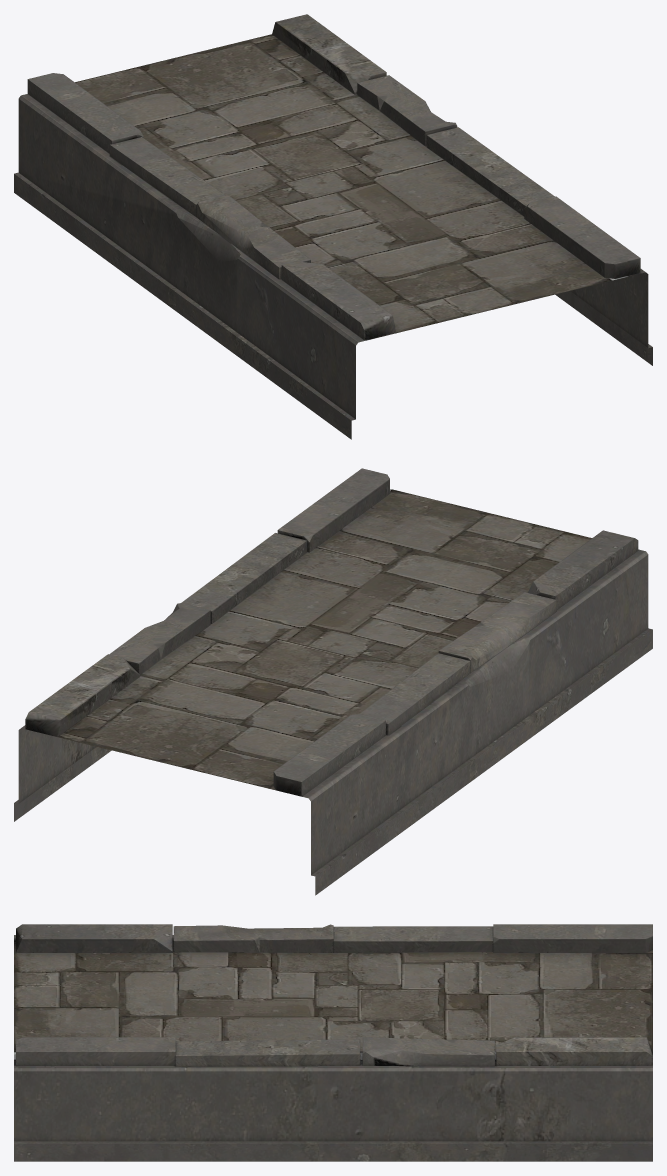
The model's file is stone_bridge.fbx.
The picture shows the model from 3 angles, top to bottom: view 1: azimuth 30°, elevation 25°; view 2: azimuth 150°, elevation 25°; view 3: azimuth 270°, elevation 25°; orthographic projection. The views are drawn at different scales.
Parts seen in each view (by area): view 1: renderMesh0; view 2: renderMesh0; view 3: renderMesh0.
Boxes of the visible parts, x1=… form: renderMesh0: x1=14, y1=14, x2=652, y2=439; renderMesh0: x1=14, y1=468, x2=652, y2=895; renderMesh0: x1=14, y1=924, x2=652, y2=1161.
Size of the model in its own units: 264 by 92.24 by 512.
1 material, 1 textured.
